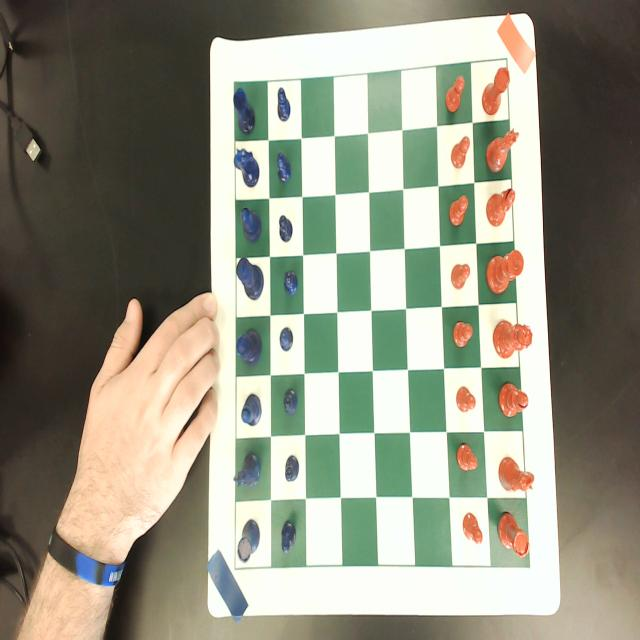B: (240, 392, 262, 428), (240, 207, 261, 243)
K: (237, 257, 264, 301)
N: (233, 146, 260, 187), (233, 449, 261, 488)
P: (276, 150, 292, 186), (281, 520, 297, 554), (277, 213, 294, 244), (277, 86, 291, 123), (284, 454, 300, 483), (278, 326, 294, 353), (283, 388, 298, 416), (284, 270, 298, 296)
Q: (236, 329, 262, 365)
R: (234, 518, 260, 564), (232, 87, 256, 134)
b: (486, 187, 515, 227), (498, 383, 529, 419)
k: (486, 250, 524, 294)
n: (486, 127, 519, 173), (497, 454, 535, 493)
p: (446, 75, 466, 114), (462, 511, 483, 546), (449, 193, 469, 227), (456, 442, 478, 472), (451, 135, 470, 169), (452, 320, 473, 349), (450, 262, 471, 290), (456, 385, 476, 412)
q: (493, 320, 532, 360)
r: (497, 511, 530, 559), (482, 66, 510, 116)
